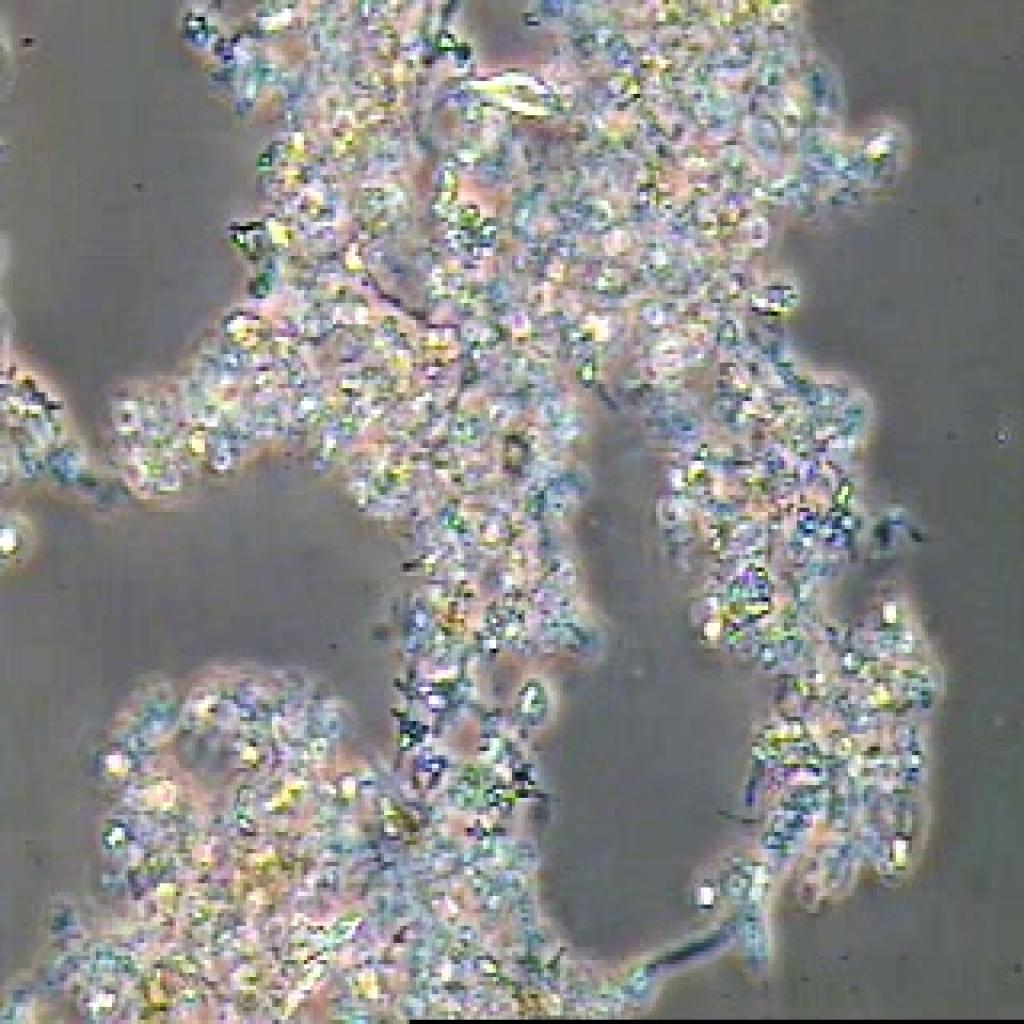Pristina: (448, 54, 573, 134)
